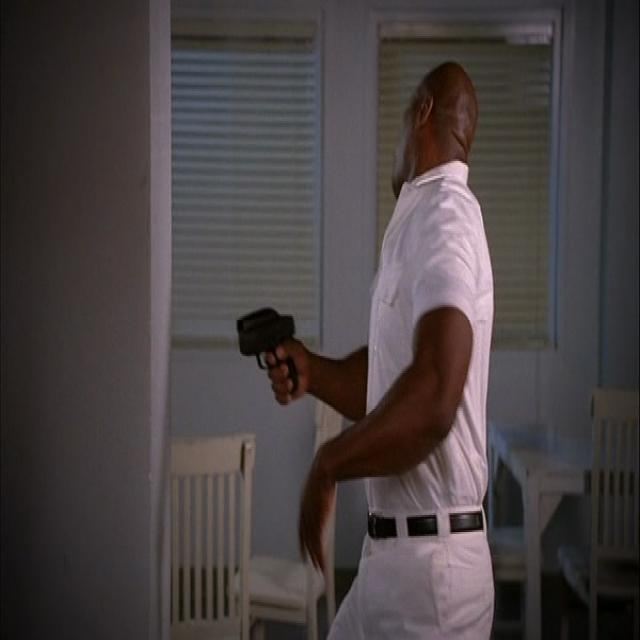weapons: (224, 284, 320, 429)
